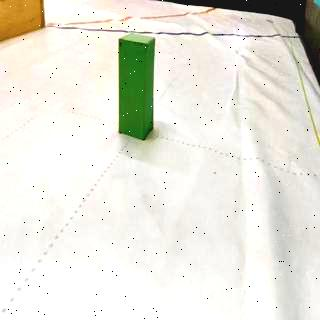greenbox: (116, 31, 156, 140)
